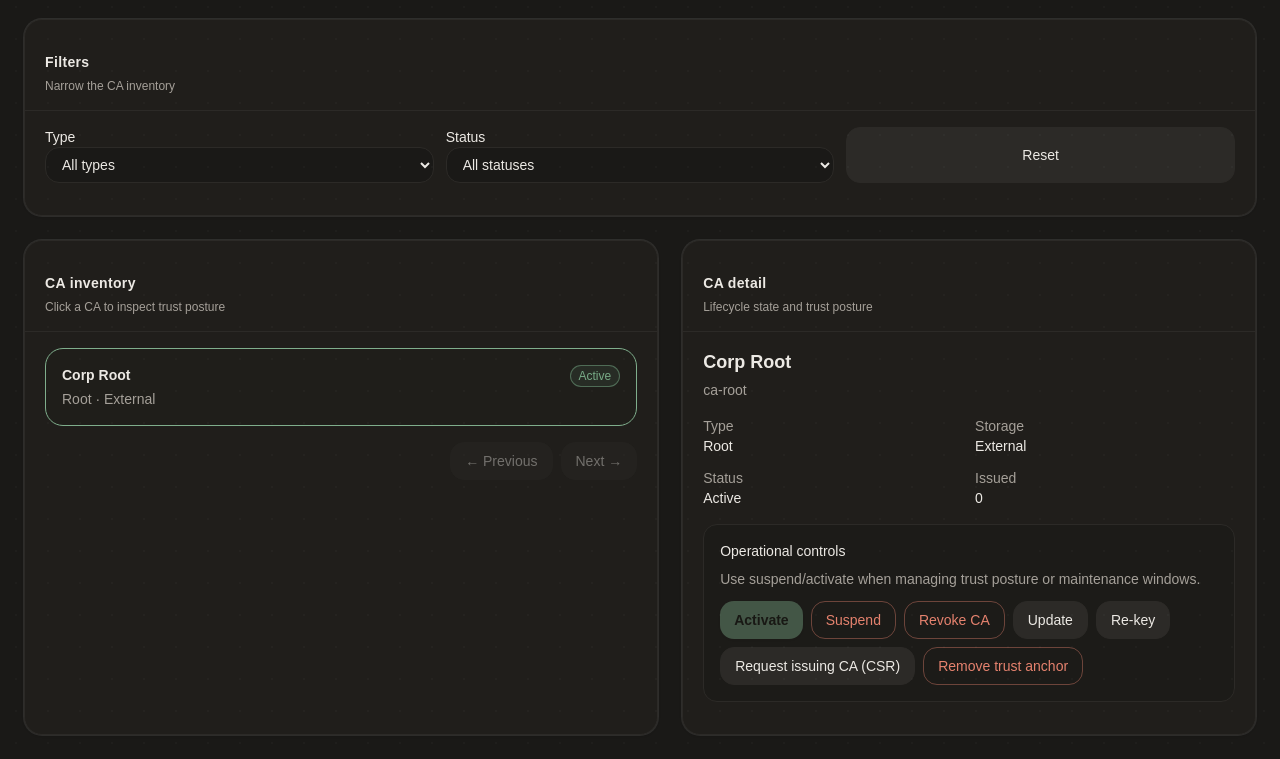
Test case: CAs offline-root workflow (W23-05) › trust anchor removal 409 shows the child-CA message
(page scrolled)
Click the button "Remove trust anchor" at (1003, 666), box x1=923 y1=646 x2=1083 y2=684
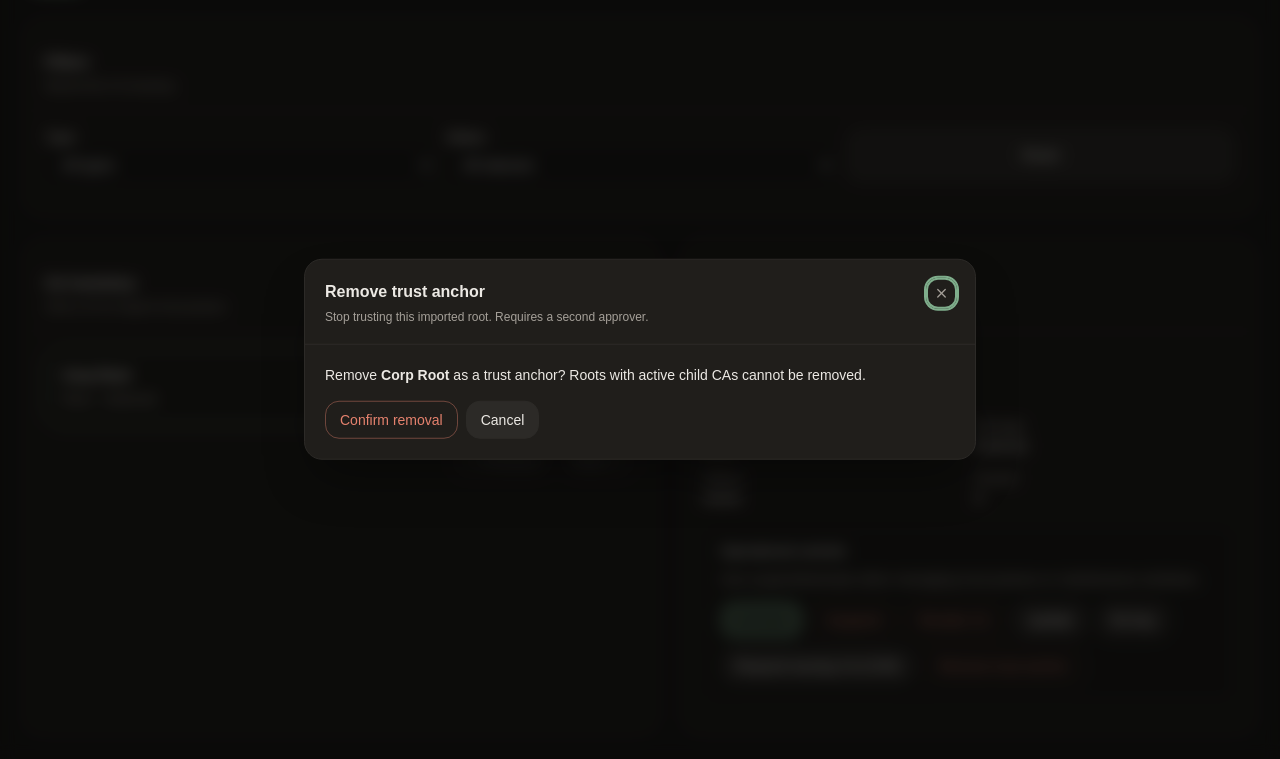
Click the button "Confirm removal" at (391, 419), box x1=325 y1=400 x2=458 y2=438
(page scrolled)
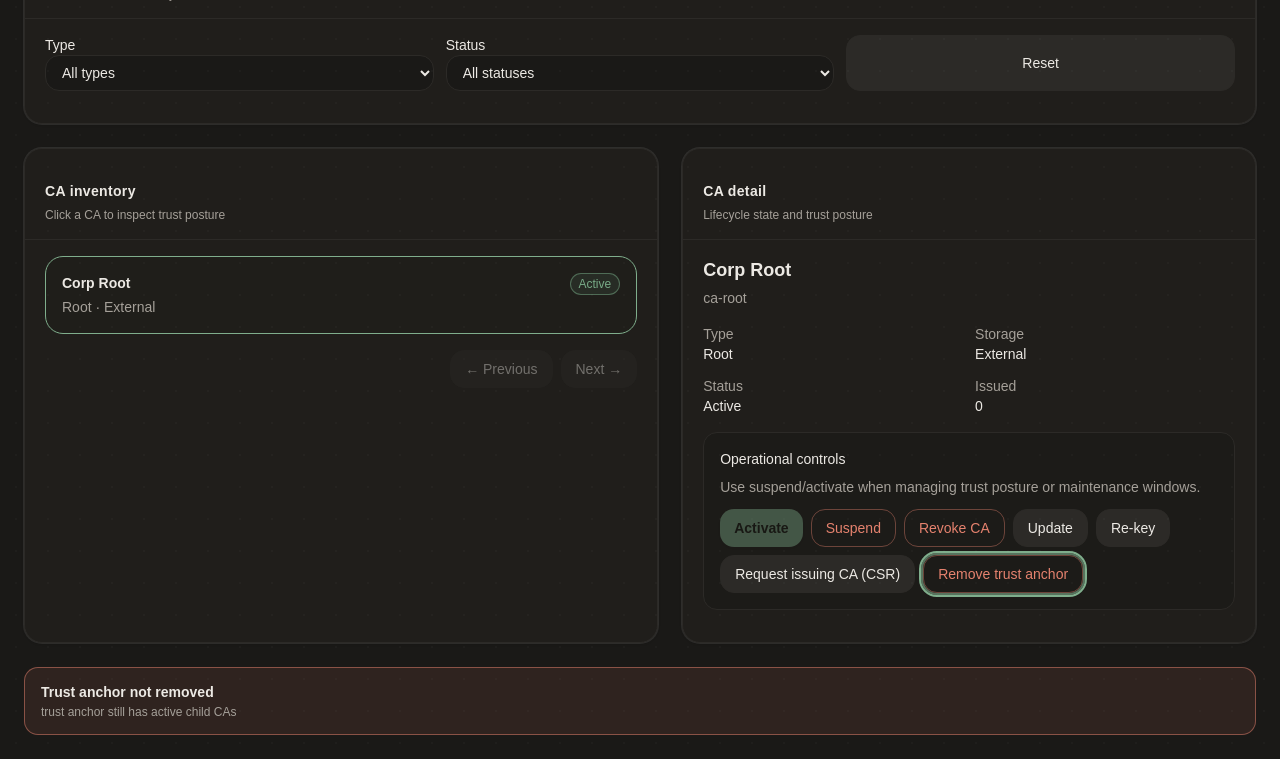
Expected: the text "trust anchor still has active child CAs" is shown, x1=41 y1=704 x2=236 y2=720
